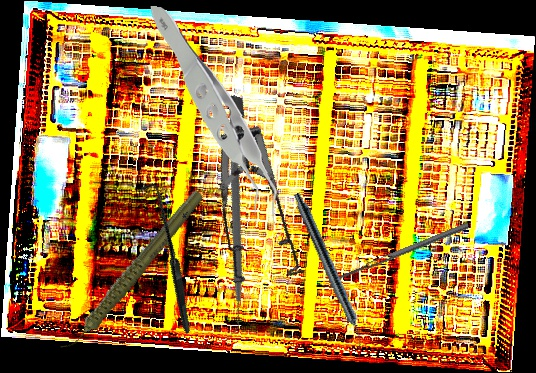Chopper: (115, 98, 343, 343)
Handpiece: (30, 186, 232, 355), (288, 191, 371, 350)
Hook Surgical: (90, 179, 243, 335)
Spatula Surgical: (326, 222, 472, 291)
Speculum: (163, 93, 359, 307)
Tissue Forceps: (144, 6, 282, 225)
